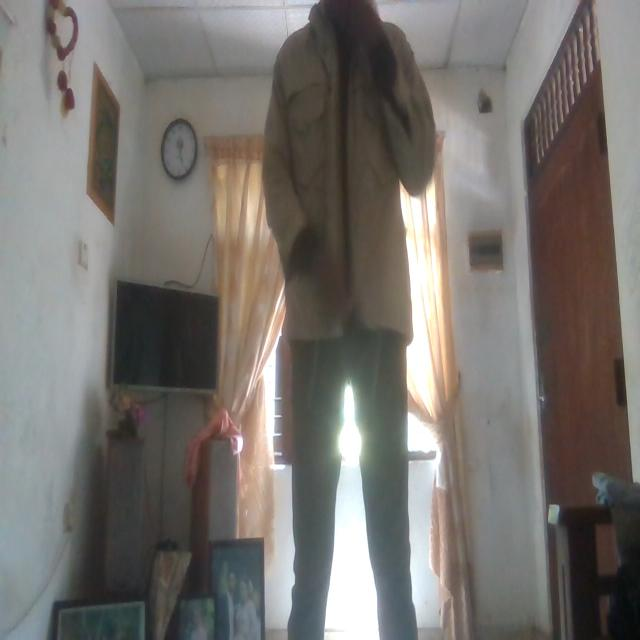Jacket_Wearer: (266, 0, 435, 348)
Person: (262, 0, 438, 640)
